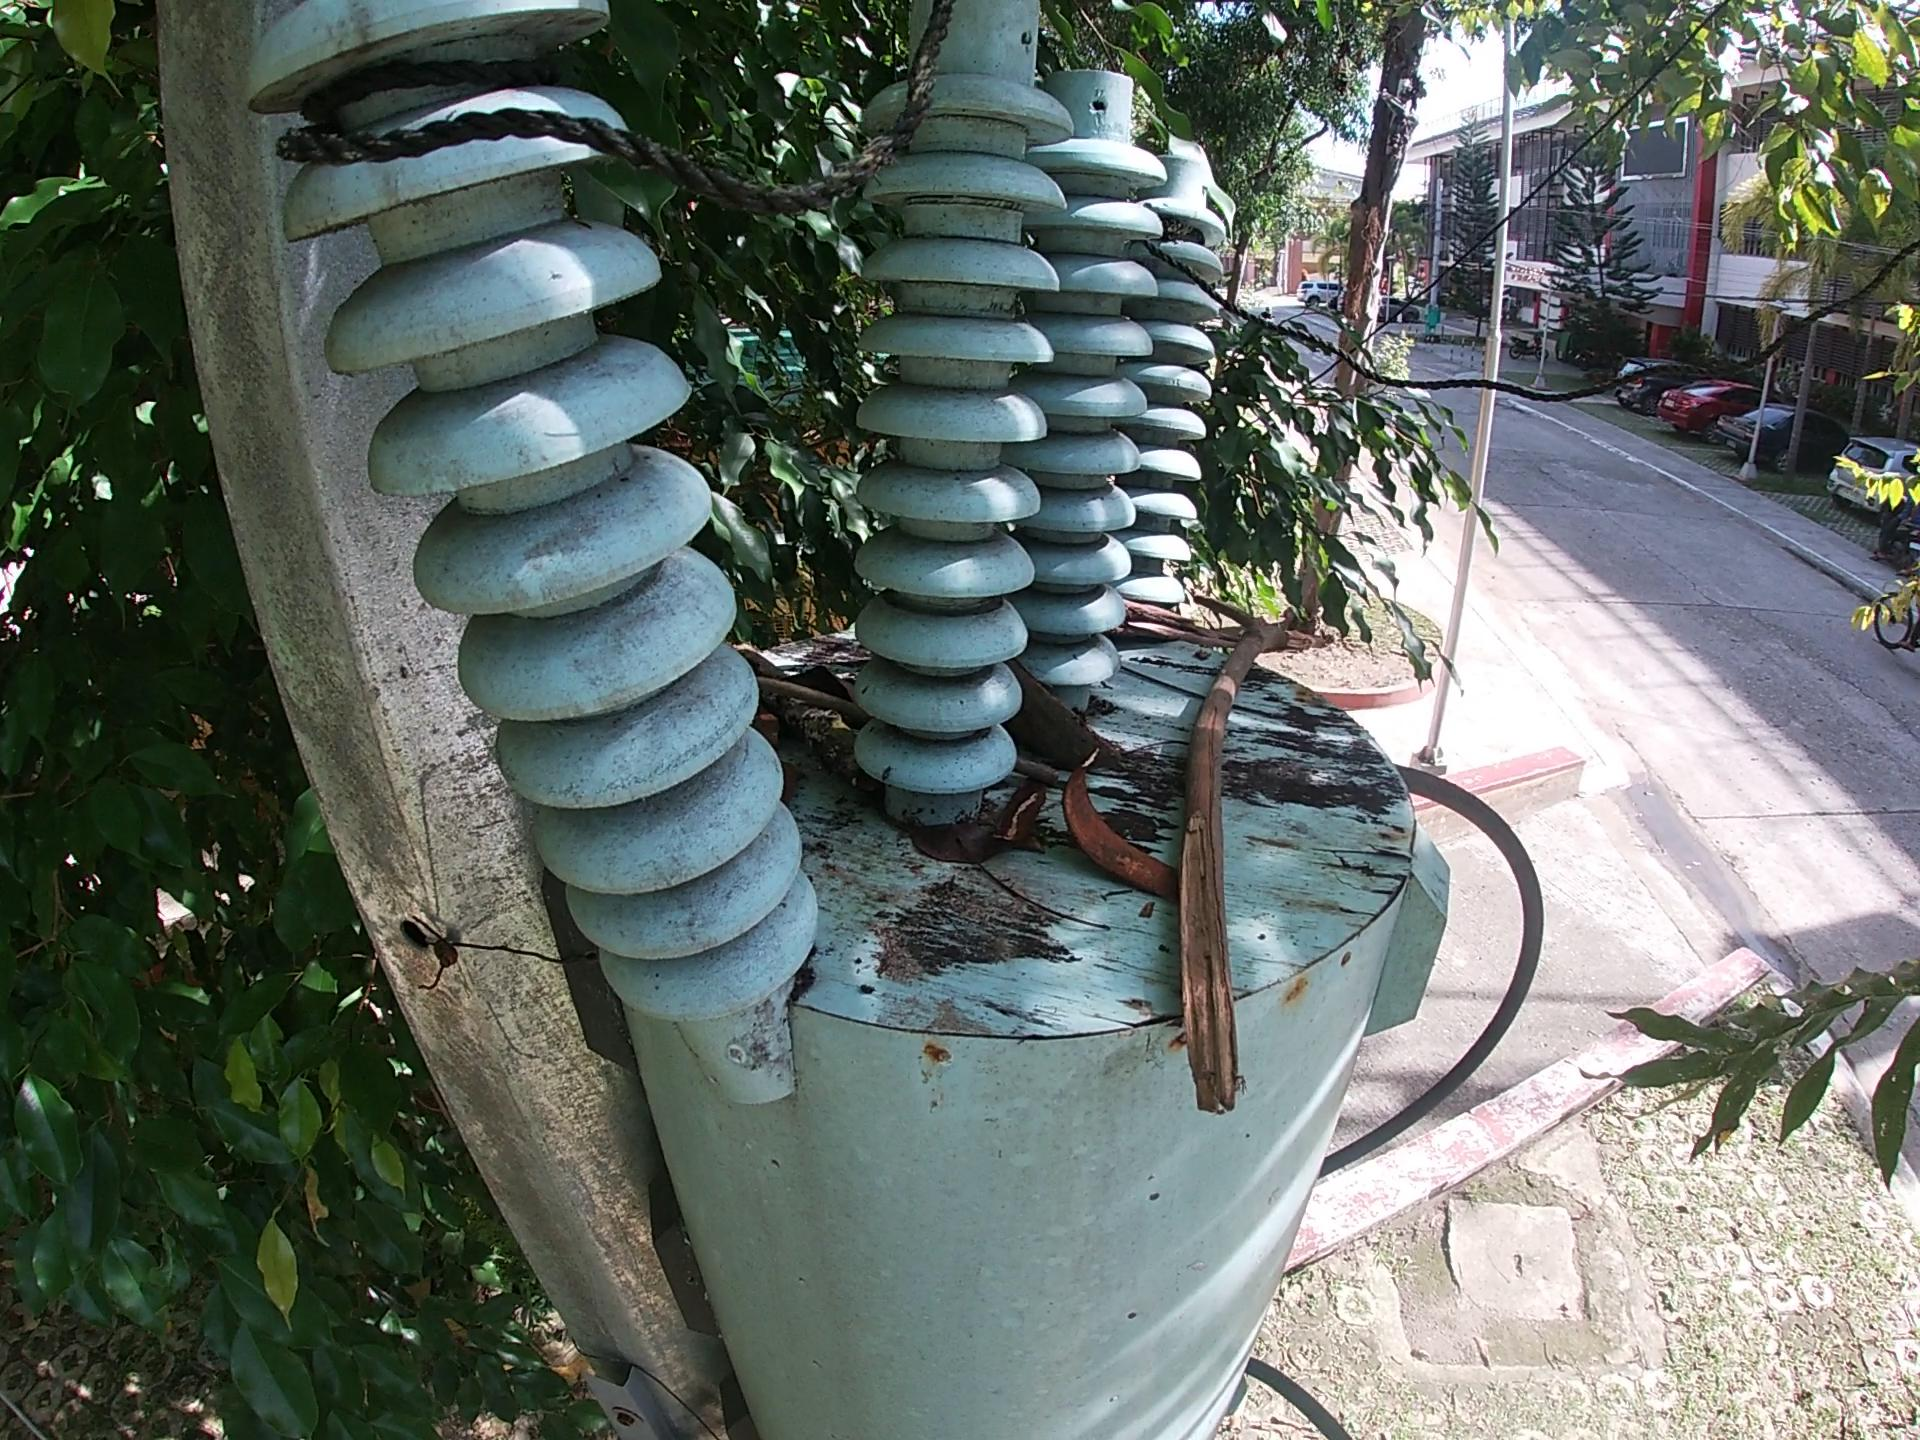leaf: (892, 817, 968, 864)
mahogany fruit: (1063, 755, 1170, 892), (1004, 675, 1141, 782)
tree branch: (1175, 591, 1327, 1121), (739, 646, 865, 784), (975, 870, 1102, 942), (1113, 608, 1252, 656), (739, 664, 862, 711), (992, 781, 1057, 843)
